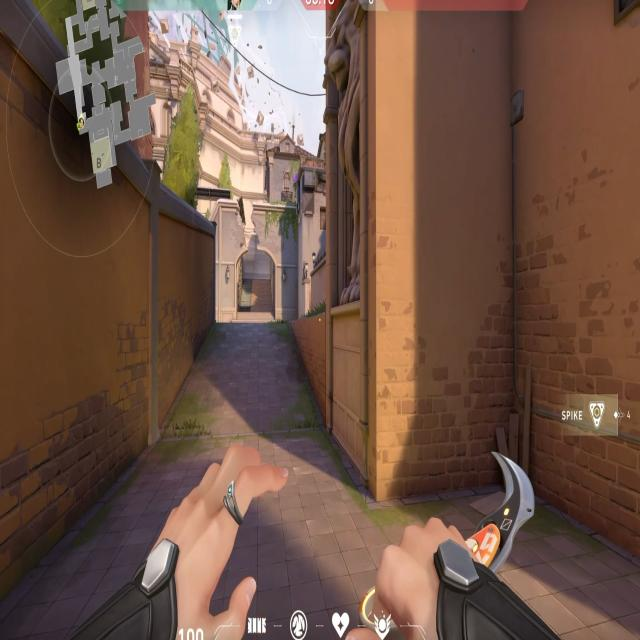Lion_Corner: (317, 5, 381, 473)
